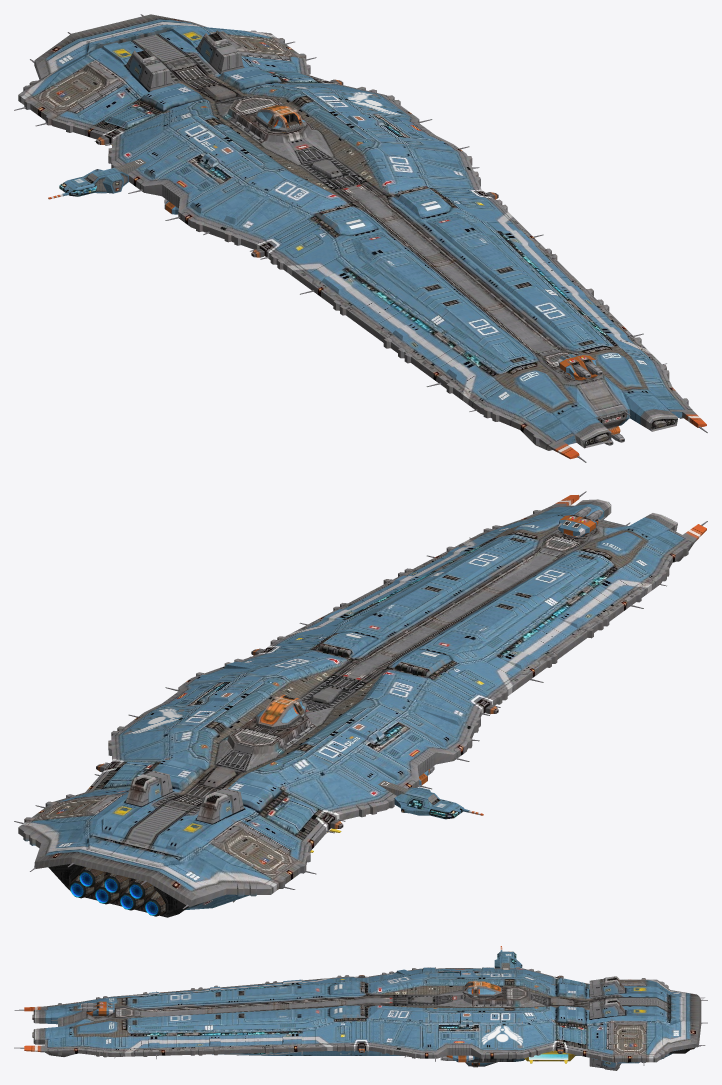
The model's file is hgn-battlecruiser.glb.
3 views of the same model, one above another, from view 1: azimuth 30°, elevation 25°; view 2: azimuth 150°, elevation 25°; view 3: azimuth 270°, elevation 25° (orthographic). The views are drawn at different scales.
Visible parts, largest first — view 1: Object_12, Object_13, Object_10, Object_2, Object_11; view 2: Object_12, Object_13, Object_10, Object_2, Object_19, Object_18, Object_11, Object_4; view 3: Object_12, Object_13, Object_10, Object_2, Object_4.
Boxes of the visible parts, left/top/right/bottom form: Object_12: left=18, top=14, right=706, bottom=459; Object_13: left=14, top=14, right=707, bottom=462; Object_10: left=324, top=88, right=412, bottom=117; Object_2: left=255, top=105, right=306, bottom=132; Object_11: left=59, top=172, right=128, bottom=196; Object_12: left=18, top=495, right=706, bottom=917; Object_13: left=14, top=491, right=707, bottom=909; Object_10: left=118, top=705, right=206, bottom=735; Object_2: left=255, top=694, right=306, bottom=729; Object_19: left=70, top=870, right=160, bottom=916; Object_18: left=71, top=870, right=160, bottom=916; Object_11: left=394, top=793, right=464, bottom=819; Object_4: left=558, top=515, right=598, bottom=537; Object_12: left=24, top=946, right=701, bottom=1069; Object_13: left=14, top=967, right=707, bottom=1070; Object_10: left=481, top=1020, right=522, bottom=1051; Object_2: left=462, top=980, right=501, bottom=997; Object_4: left=86, top=1001, right=114, bottom=1015.
Bounding box in the file's own units: 378 × 122 × 961.
19 materials, 19 textured.
